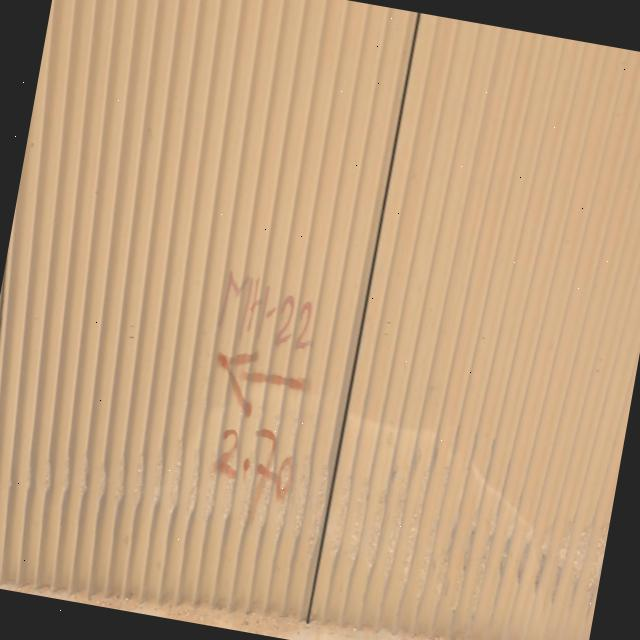Graffiti: (182, 268, 327, 528)
